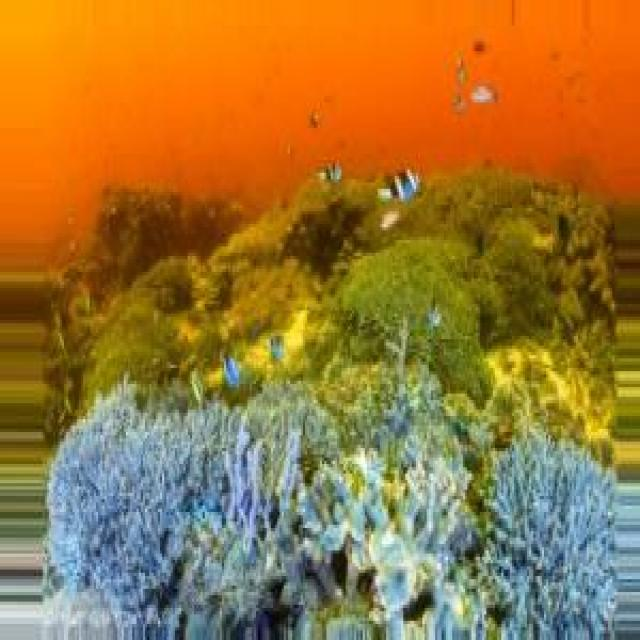Bleached: (42, 167, 618, 640), (240, 385, 470, 619), (50, 411, 219, 628), (494, 436, 618, 640)
